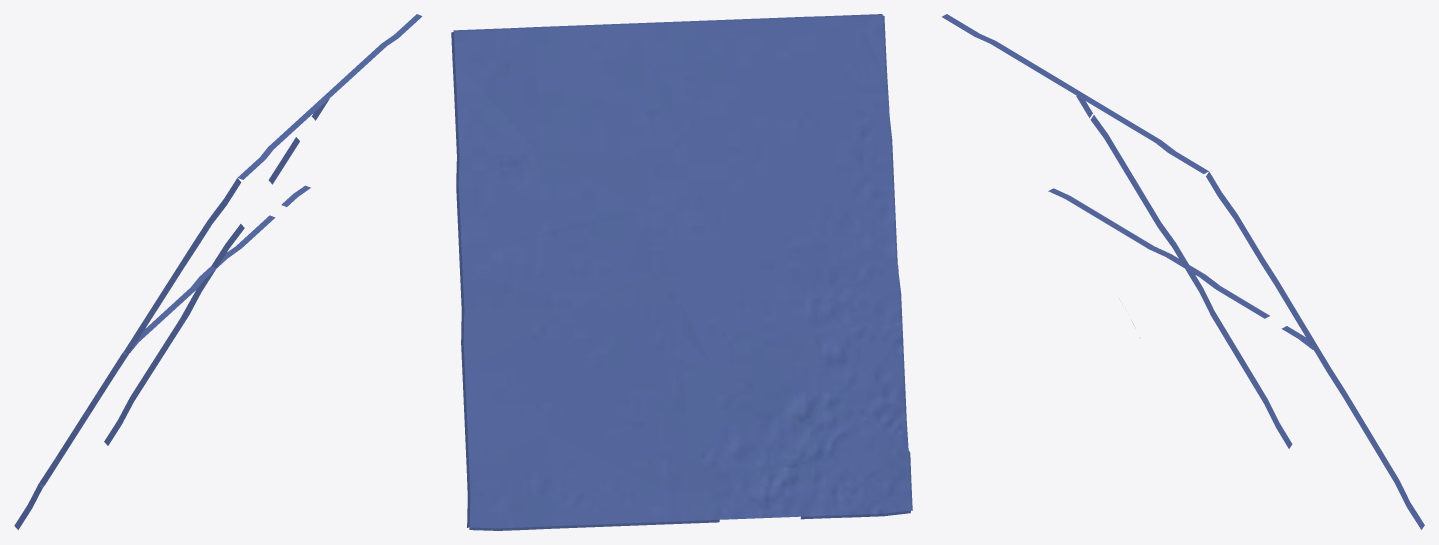
3 renders of one model, left to right at view 1: azimuth 30°, elevation 25°; view 2: azimuth 150°, elevation 25°; view 3: azimuth 270°, elevation 25°, orthographic. The views are drawn at different scales.
Bounding box in the file's own units: 315653 × 276189 × 287047.
Materials: 1 (1 with a texture image).
